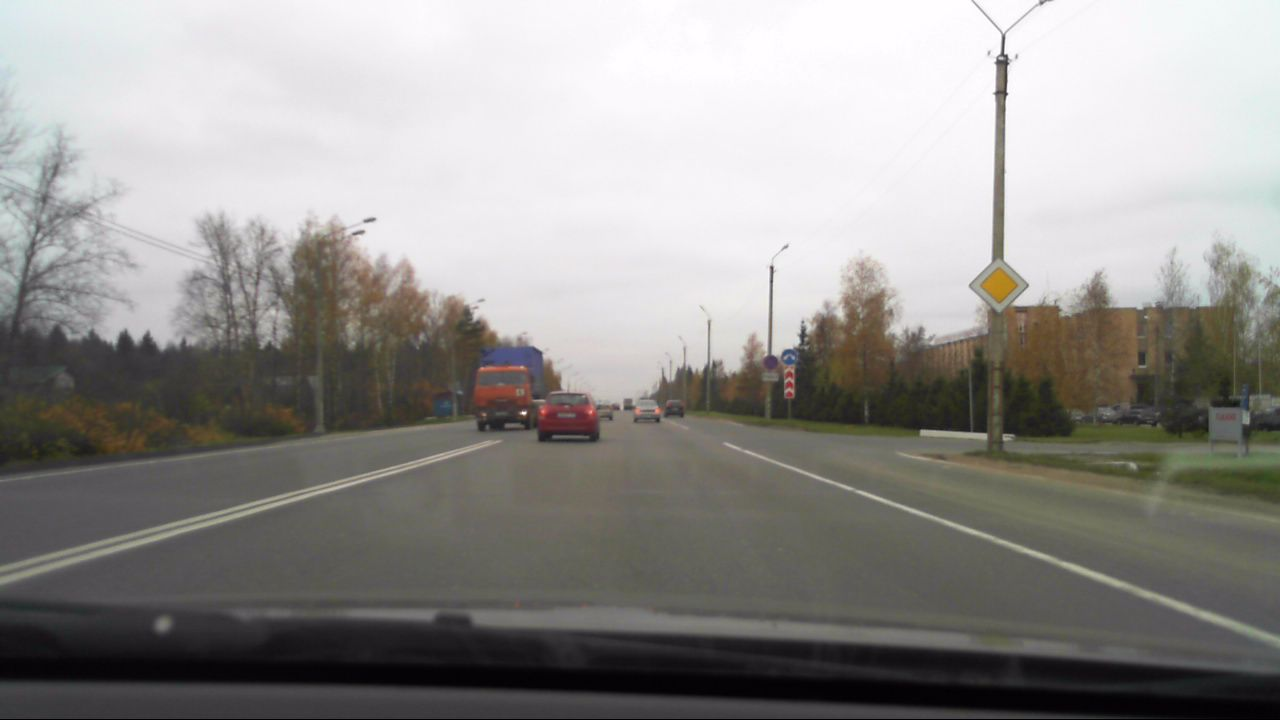No Parking: (760, 350, 778, 371)
